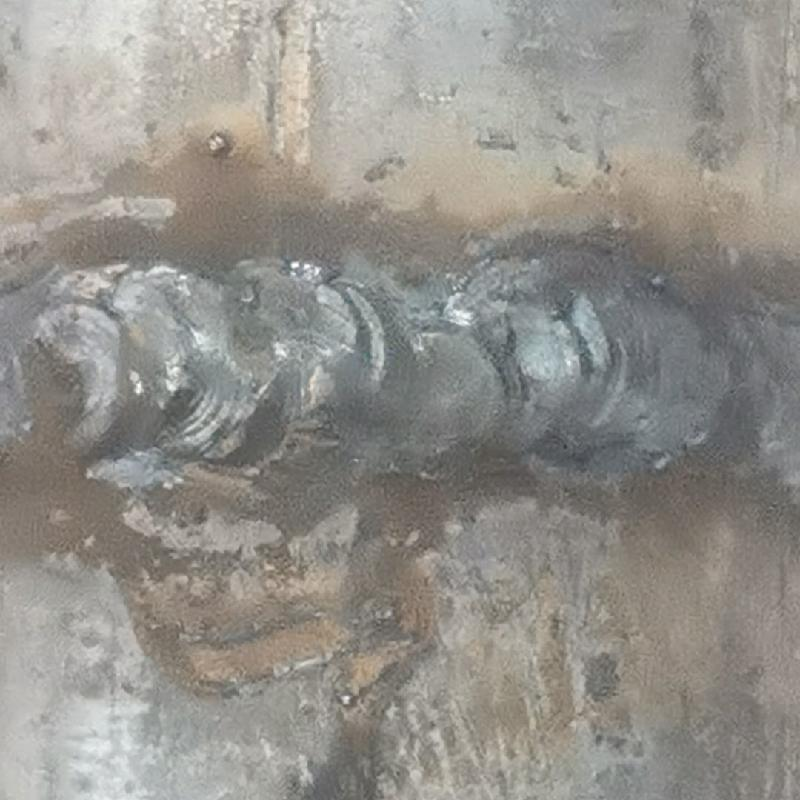good: (0, 243, 799, 497)
